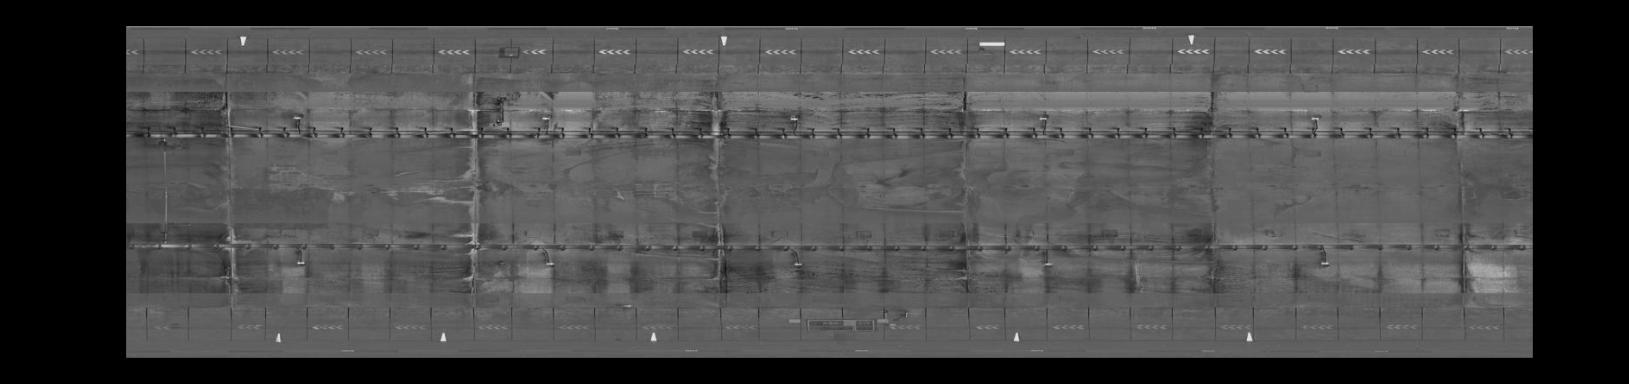light: (291, 256, 314, 271), (536, 114, 557, 124), (290, 112, 306, 124), (1316, 257, 1333, 269), (539, 259, 559, 269), (1038, 259, 1056, 269), (787, 260, 807, 269), (1033, 114, 1050, 122), (1305, 115, 1323, 124), (787, 114, 803, 124)
